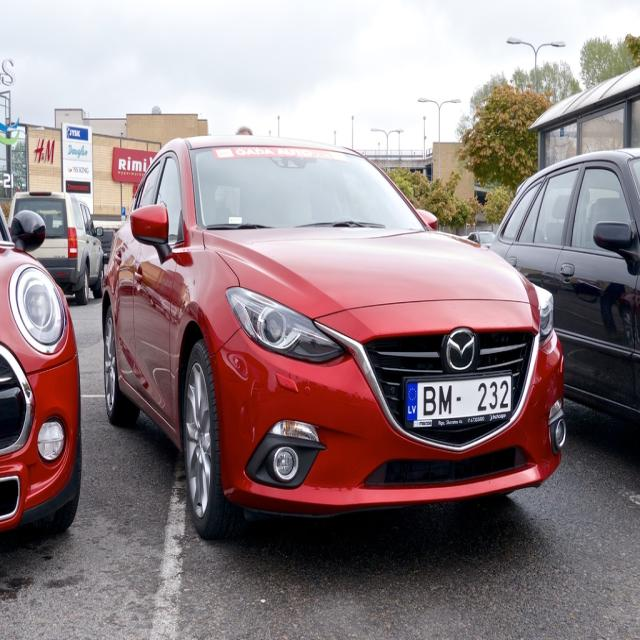car: (82, 138, 560, 540), (481, 150, 639, 435), (0, 200, 79, 541), (4, 183, 109, 301), (469, 228, 492, 244)
